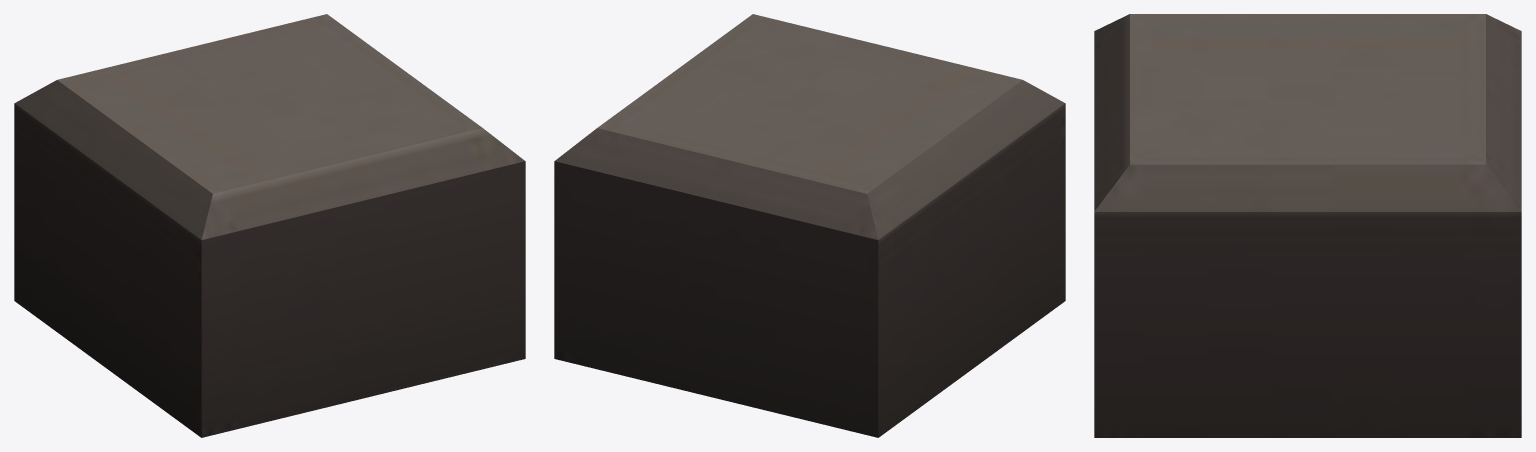
File: burner-mining-drill.glb
3 views of the same model, side by side, from view 1: azimuth 30°, elevation 25°; view 2: azimuth 150°, elevation 25°; view 3: azimuth 270°, elevation 25° (orthographic). The views are drawn at different scales.
Parts seen in each view (by area): view 1: burner-mining-drill; view 2: burner-mining-drill; view 3: burner-mining-drill.
Part boxes in pixels (<box>): burner-mining-drill: <box>14,14,525,437</box>; burner-mining-drill: <box>554,14,1065,437</box>; burner-mining-drill: <box>1094,14,1521,437</box>.
Size of the model in its own units: 0.24 by 0.16 by 0.24.
1 material, 1 textured.
